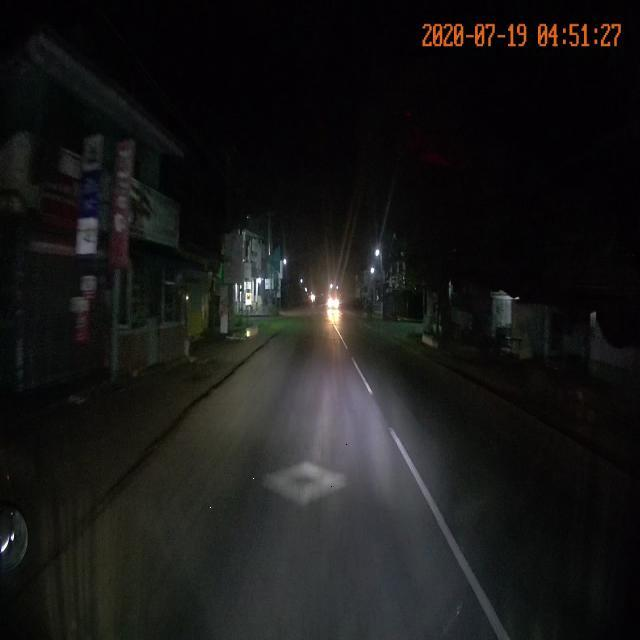diamond: (201, 438, 448, 522)
